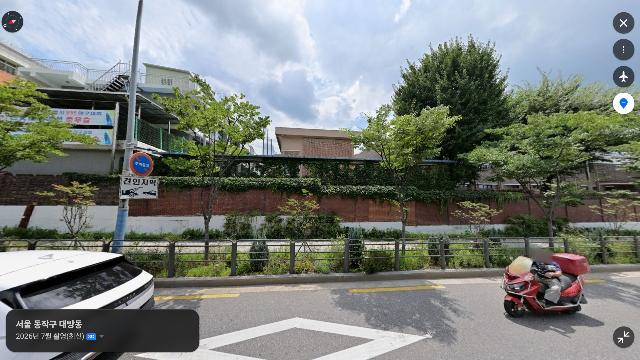other: (467, 108, 640, 241), (150, 74, 274, 247), (383, 33, 515, 192), (337, 101, 467, 250), (0, 78, 98, 178), (37, 179, 103, 241), (273, 188, 323, 252), (450, 198, 504, 240)
